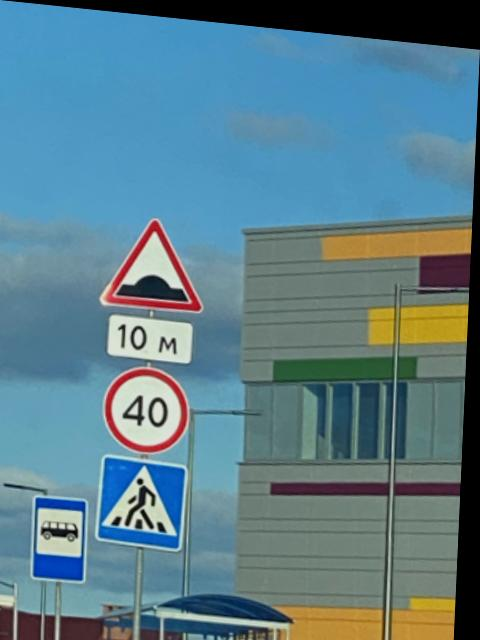limit40: (105, 354, 200, 449)
